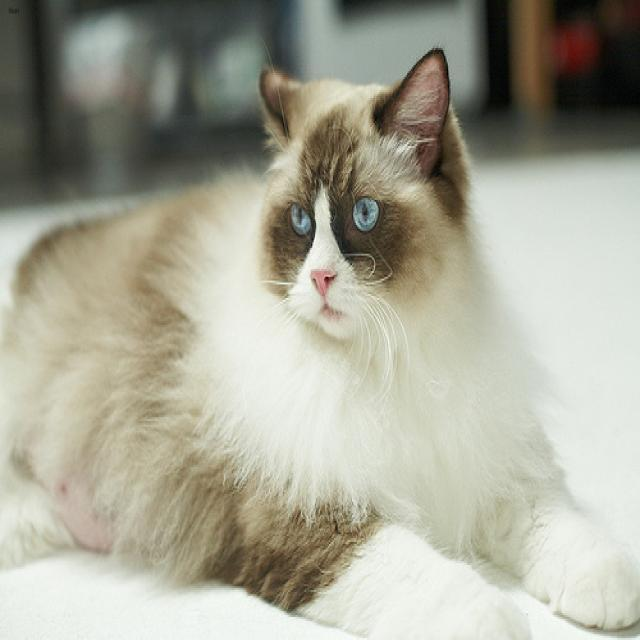Ragdoll: (252, 37, 475, 354)
